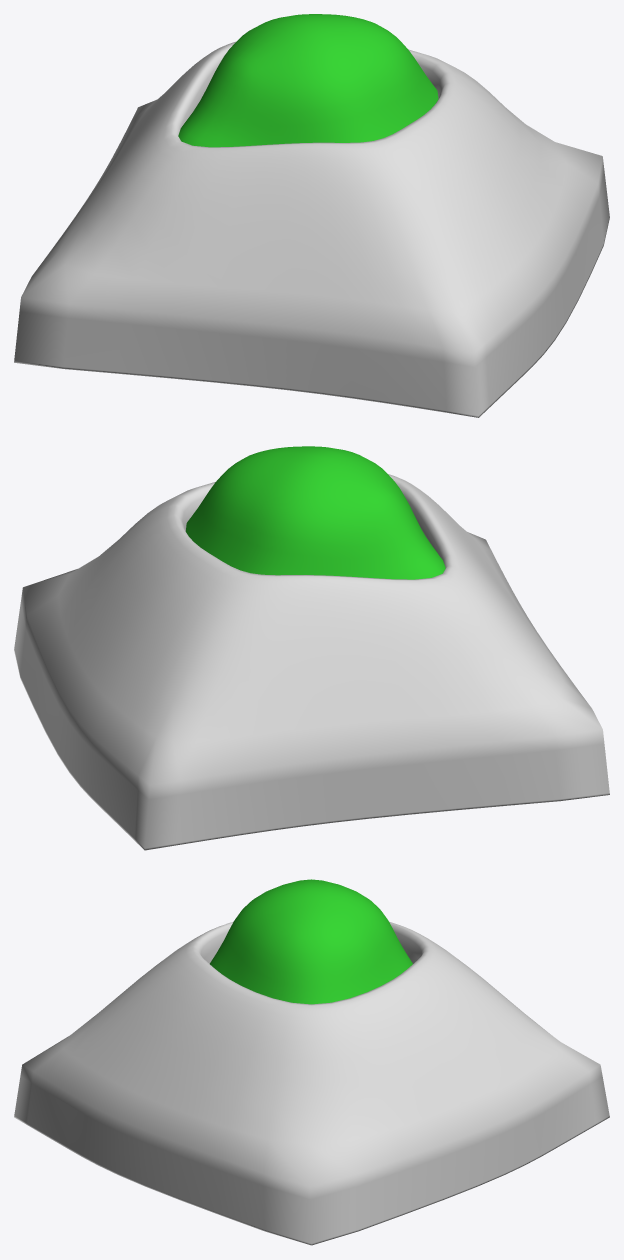
Rendered from Button 2.fbx.
3 views of the same model, one above another, from view 1: azimuth 30°, elevation 25°; view 2: azimuth 150°, elevation 25°; view 3: azimuth 270°, elevation 25° (orthographic). The views are drawn at different scales.
Visible parts, largest first — view 1: Button, Button_connection; view 2: Button, Button_connection; view 3: Button, Button_connection.
Boxes of the visible parts, box(x1,y1,x2,y2) form: Button: box(14, 41, 609, 417); Button_connection: box(178, 14, 438, 147); Button: box(14, 474, 609, 850); Button_connection: box(185, 446, 445, 579); Button: box(14, 921, 609, 1245); Button_connection: box(210, 879, 412, 1004).
Bounding box in the file's own units: 102 × 43.94 × 103.
